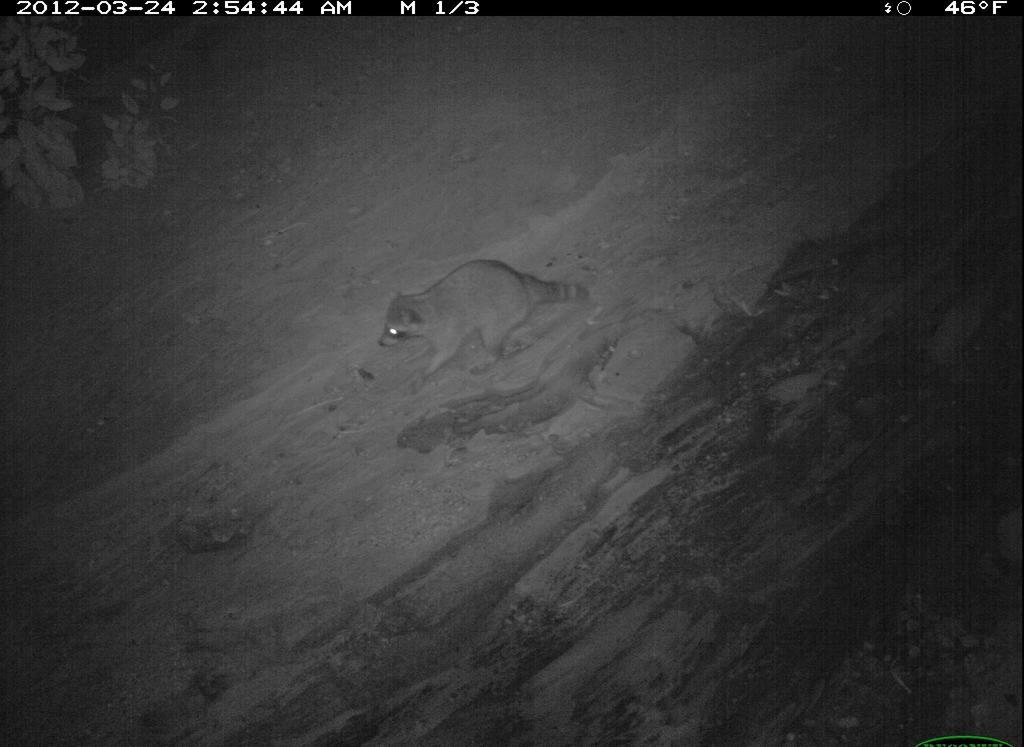raccoon: (745, 510, 1024, 747)
